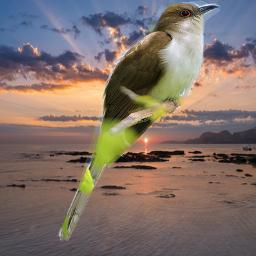Cuckoo: (57, 0, 220, 241)
